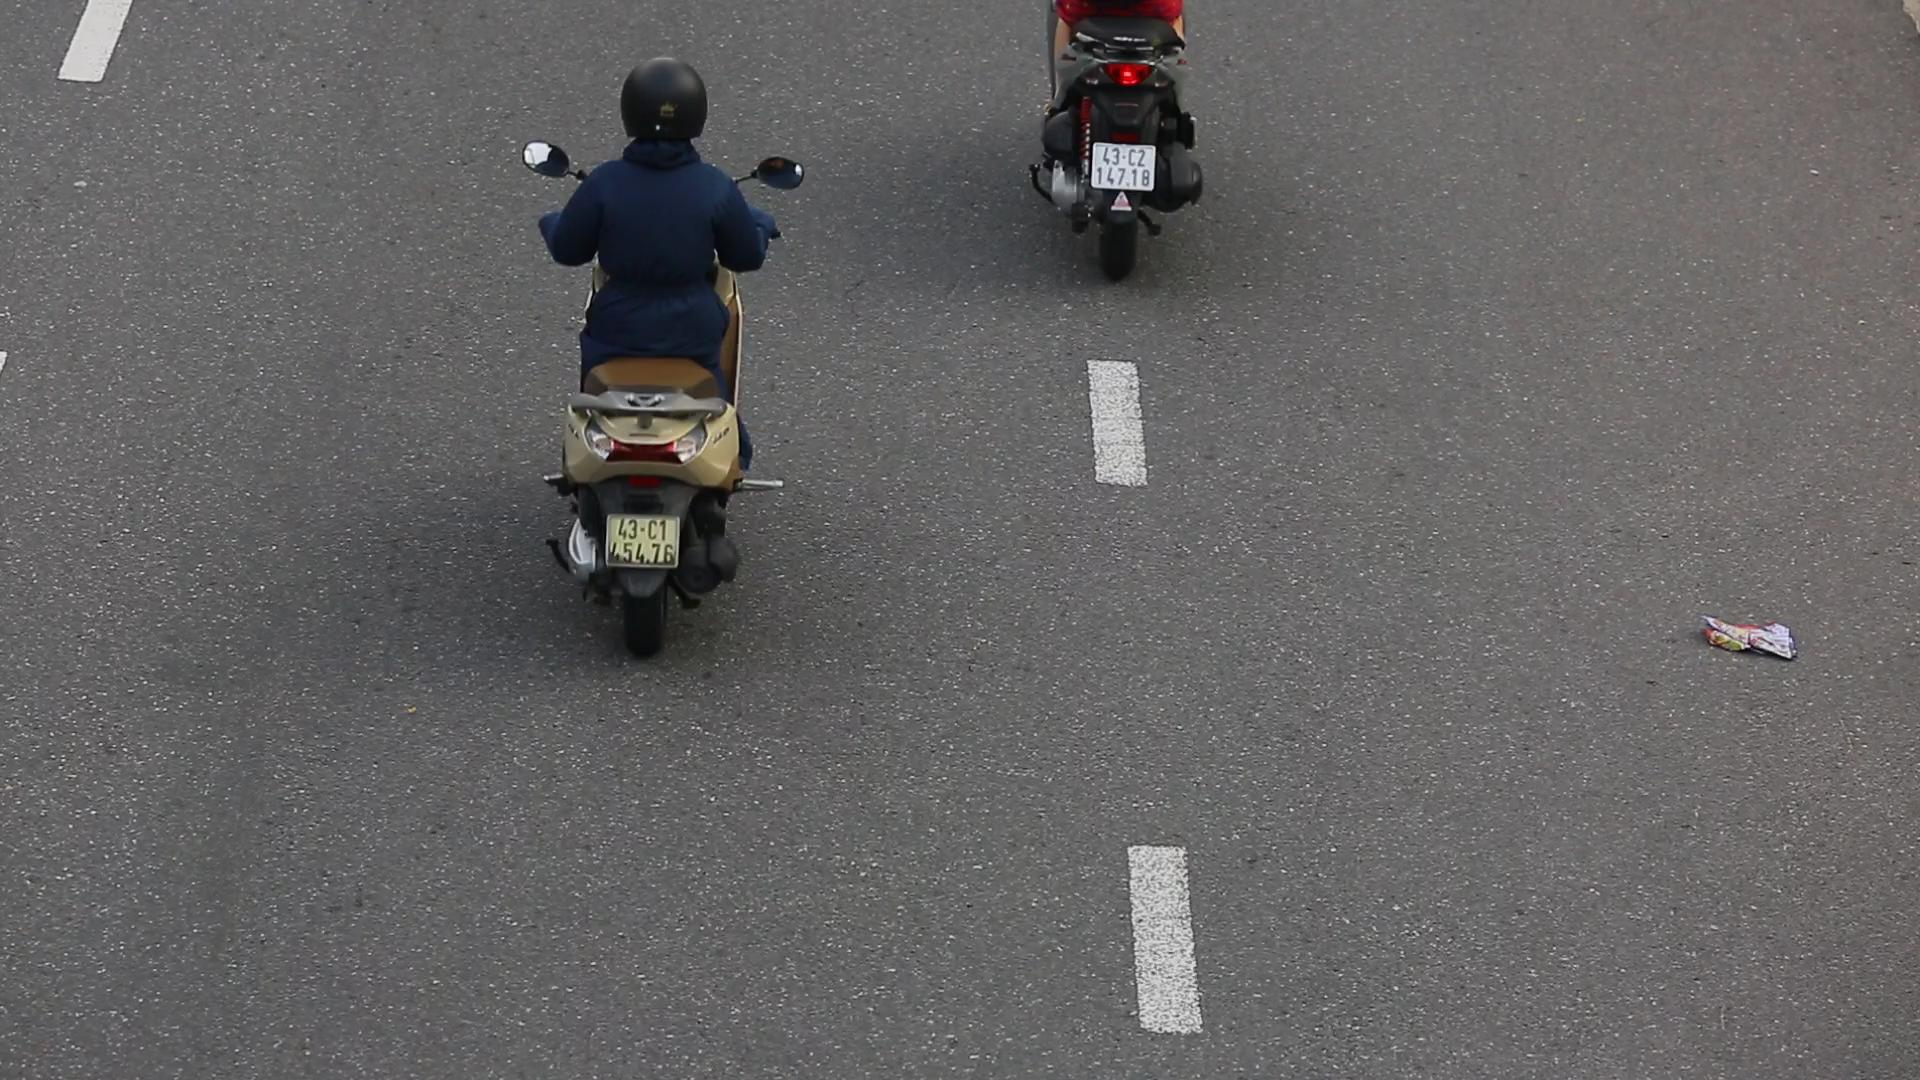motobike: (502, 45, 808, 661)
